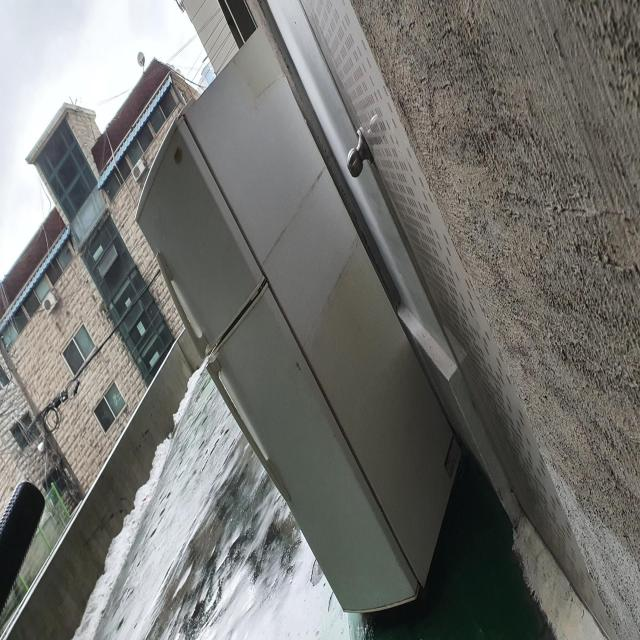refrigerator: (134, 26, 465, 614)
